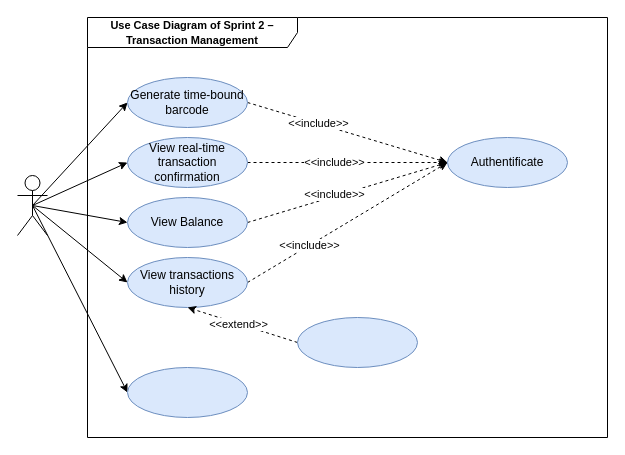
The diagram is 625 pixels wide and 455 high, and some of its shapes have lost their labels. Each missing label, with the centre of its shape:
"Print transaction receipt" goes at point (357, 342).
"User" goes at point (32, 205).
"View Stores" goes at point (187, 392).
